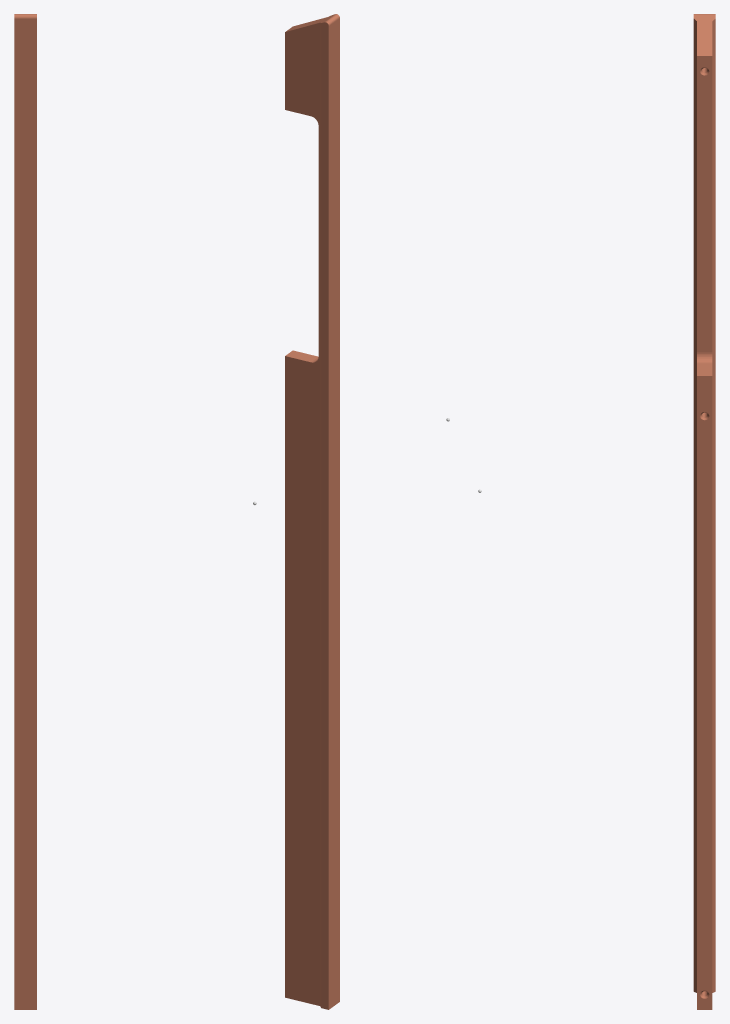
File: 171 pvd r gold.glb
The picture shows the model from 3 angles, left to right: view 1: azimuth 90°, elevation 25°; view 2: azimuth 150°, elevation 25°; view 3: azimuth 270°, elevation 25°; orthographic projection.
Visible parts, largest first — view 1: CABINET_HANDLE_171; view 2: CABINET_HANDLE_171; view 3: CABINET_HANDLE_171.
Part boxes in pixels (x1,y1,x2,y2): CABINET_HANDLE_171: [14, 14, 36, 1009]; CABINET_HANDLE_171: [285, 14, 339, 1009]; CABINET_HANDLE_171: [693, 14, 715, 1009].
Size of the model in its own units: 0.7875 by 15.84 by 3.5.
